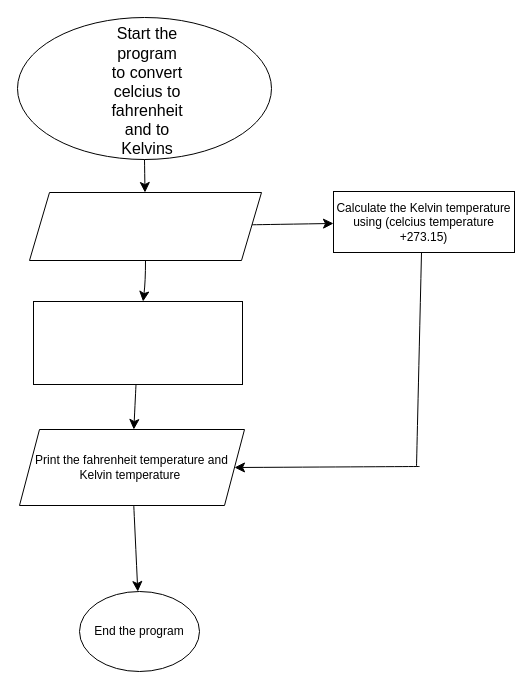
The diagram is 532 pixels wide and 689 high, and some of its shapes have lost their labels. Each missing label, with the centre of its shape:
"Calculate the fahrenheit temperature using (((9/5)*celcius temperature)+32)" goes at point 137,342.
"Input the celcius temperature" goes at point 145,226.
